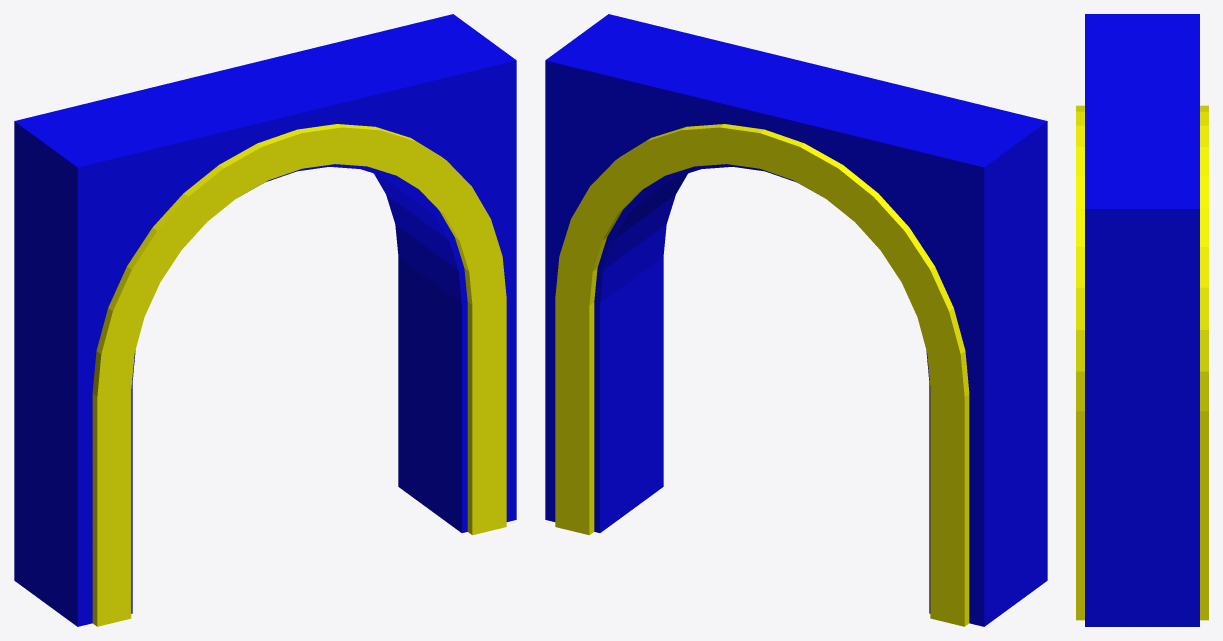
The model's file is ARCH_TOP_DOUBLE.fbx.
The picture shows the model from 3 angles, left to right: view 1: azimuth 30°, elevation 25°; view 2: azimuth 150°, elevation 25°; view 3: azimuth 270°, elevation 25°; orthographic projection. The views are drawn at different scales.
Visible parts, largest first — view 1: ARCH_TOP_DOUBLE; view 2: ARCH_TOP_DOUBLE; view 3: ARCH_TOP_DOUBLE.
Boxes of the visible parts, x1,y1,x2,y2 form: ARCH_TOP_DOUBLE: [14, 14, 516, 626]; ARCH_TOP_DOUBLE: [545, 14, 1047, 626]; ARCH_TOP_DOUBLE: [1076, 14, 1208, 626].
Size of the model in its own units: 400 by 400 by 115.
